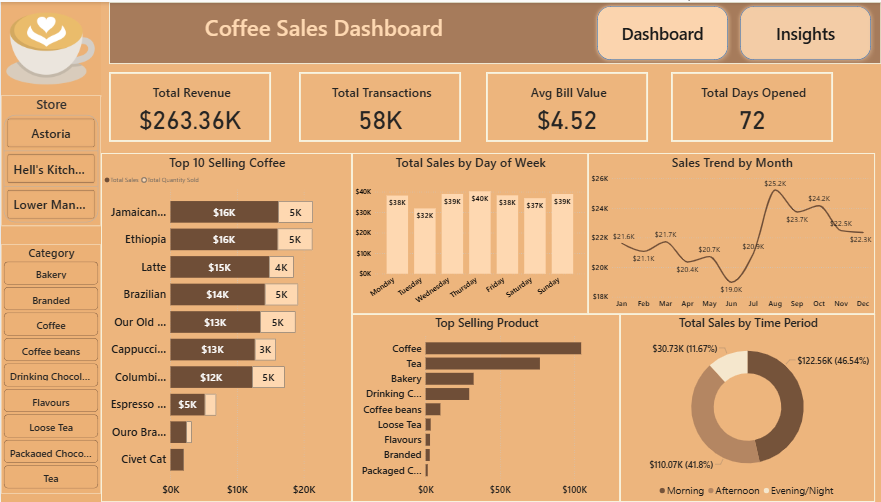

The page's visual inventory and layout, read from the dashboard file:
{"tool":"powerbi","page":{"name":"Dashboard","canvas":[1900,1080],"ordinal":0},"visuals":[{"type":"textbox","box":[233.3,0,1667.5,133.9],"z":0},{"type":"textbox","box":[0,0,216,1080],"z":1000},{"type":"donutChart","title":"Total Sales by Time Period","fields":{"Y":["_Measures.Total Revenue"],"Category":["Sales Transactions.Time_Period"]},"box":[1337,673.9,550.8,406.1],"z":2000},{"type":"advancedSlicerVisual","title":"Store","fields":{"Values":["Store.store_location"]},"box":[0,200.9,216,283],"z":3000},{"type":"barChart","title":"Top Selling Product","fields":{"Y":["_Measures.Total Sales"],"Category":["Product.product_category"]},"box":[758.2,673.9,578.9,406.1],"z":4000},{"type":"lineChart","title":"Sales Trend by Month","fields":{"Y":["_Measures.Total Sales"],"Category":["Calendar_Table.Month Name"]},"box":[1267.9,326.2,619.9,347.8],"z":5000},{"type":"barChart","title":"Top 10 Selling Coffee","fields":{"Category":["Product.product_detail"],"Y":["_Measures.Total Sales","_Measures.Total Quantity Sold"]},"box":[216,326.2,542.2,753.8],"z":6000},{"type":"card","title":"Total Revenue","fields":{"Values":["_Measures.Total Sales"]},"box":[233.3,151.2,349.9,151.2],"z":7000},{"type":"card","title":"Avg Bill Value","fields":{"Values":["_Measures.Average Bill Value"]},"box":[1047.6,151.2,349.9,151.2],"z":8000},{"type":"card","title":"Total Transactions","fields":{"Values":["_Measures.Total Transactions"]},"box":[643.7,151.2,349.9,151.2],"z":9000},{"type":"card","title":"Total Days Opened","fields":{"Values":["_Measures.Total Days Opened"]},"box":[1447.2,151.2,349.9,151.2],"z":10000},{"type":"clusteredColumnChart","title":"Total Sales by Day of Week","fields":{"Y":["_Measures.Total Sales"],"Category":["Sales Transactions.Day Name"]},"box":[758.2,326.2,509.8,347.8],"z":11000},{"type":"advancedSlicerVisual","title":"Category","fields":{"Values":["Product.product_category"]},"box":[0,522.7,216,540],"z":12000},{"type":"image","box":[6.5,0,200.9,200.9],"z":13000},{"type":"shape","box":[1587.6,0,300.2,133.9],"z":13001},{"type":"shape","box":[1278.7,0,300.2,133.9],"z":13002}]}

Visuals, with their boxes in screenshot pixels (x1, y1, x2, y2), scaled from the page's 1900x1080 canvas onto the 881x502 screenshot:
textbox: [108, 0, 880, 62]
textbox: [0, 0, 100, 501]
"Total Sales by Time Period" donutChart: [620, 313, 875, 501]
"Store" advancedSlicerVisual: [0, 93, 100, 225]
"Top Selling Product" barChart: [352, 313, 620, 501]
"Sales Trend by Month" lineChart: [588, 152, 875, 313]
"Top 10 Selling Coffee" barChart: [100, 152, 352, 501]
"Total Revenue" card: [108, 70, 270, 141]
"Avg Bill Value" card: [486, 70, 648, 141]
"Total Transactions" card: [298, 70, 461, 141]
"Total Days Opened" card: [671, 70, 833, 141]
"Total Sales by Day of Week" clusteredColumnChart: [352, 152, 588, 313]
"Category" advancedSlicerVisual: [0, 243, 100, 494]
image: [3, 0, 96, 93]
shape: [736, 0, 875, 62]
shape: [593, 0, 732, 62]
